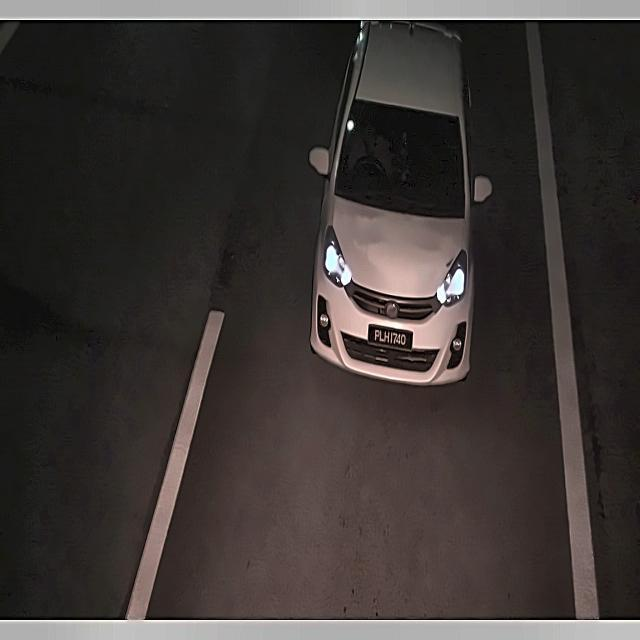car: (366, 319, 416, 356)
